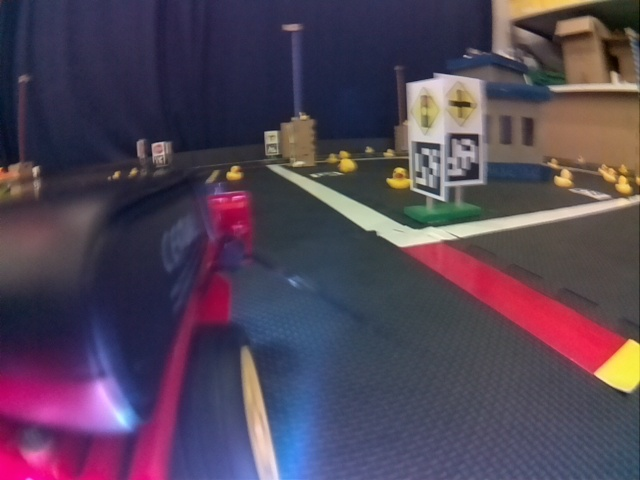Duckie: (386, 168, 409, 188), (554, 169, 572, 187), (615, 178, 630, 194), (228, 165, 242, 179), (338, 159, 353, 172)
Duckiebot: (6, 186, 276, 462)
Intersection sign: (444, 84, 478, 125)
QR code: (411, 146, 442, 197), (447, 138, 482, 181), (575, 188, 606, 199)
Signal sign: (409, 86, 441, 138)
